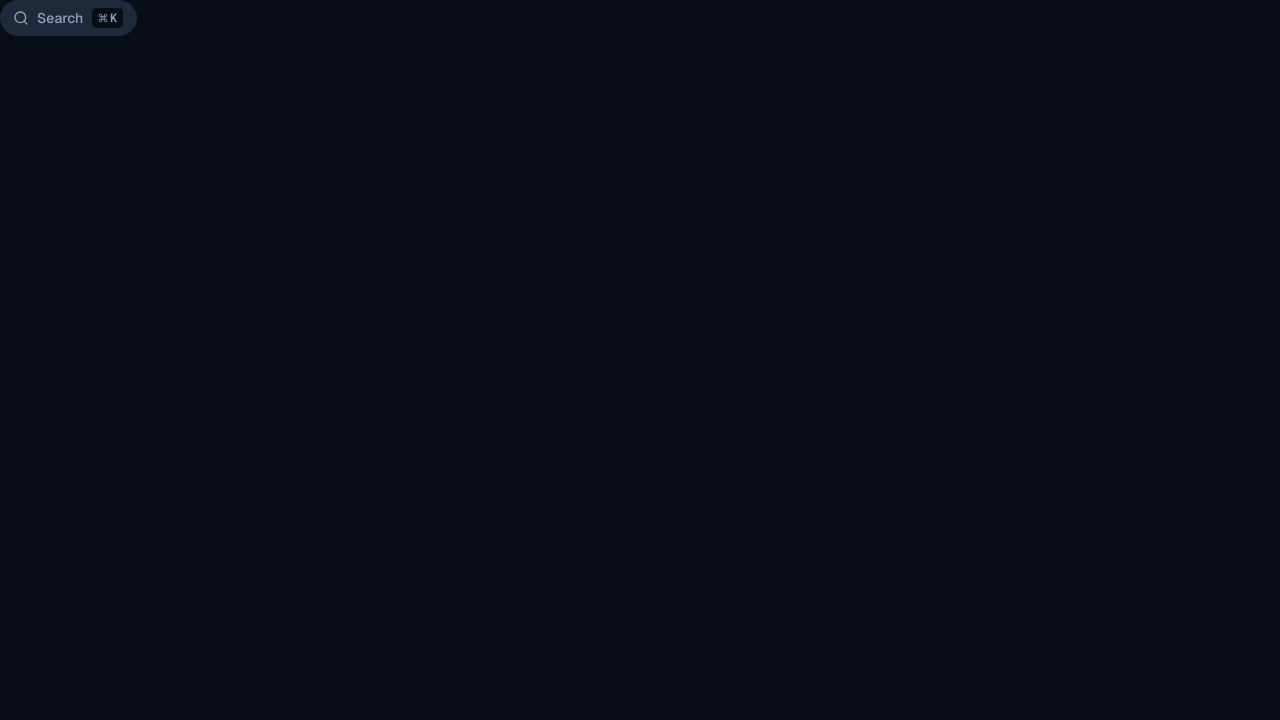
it: GlobalSearch › finds chickens by bird code and wing band
The width and height of the screenshot is (1280, 720).
Press k
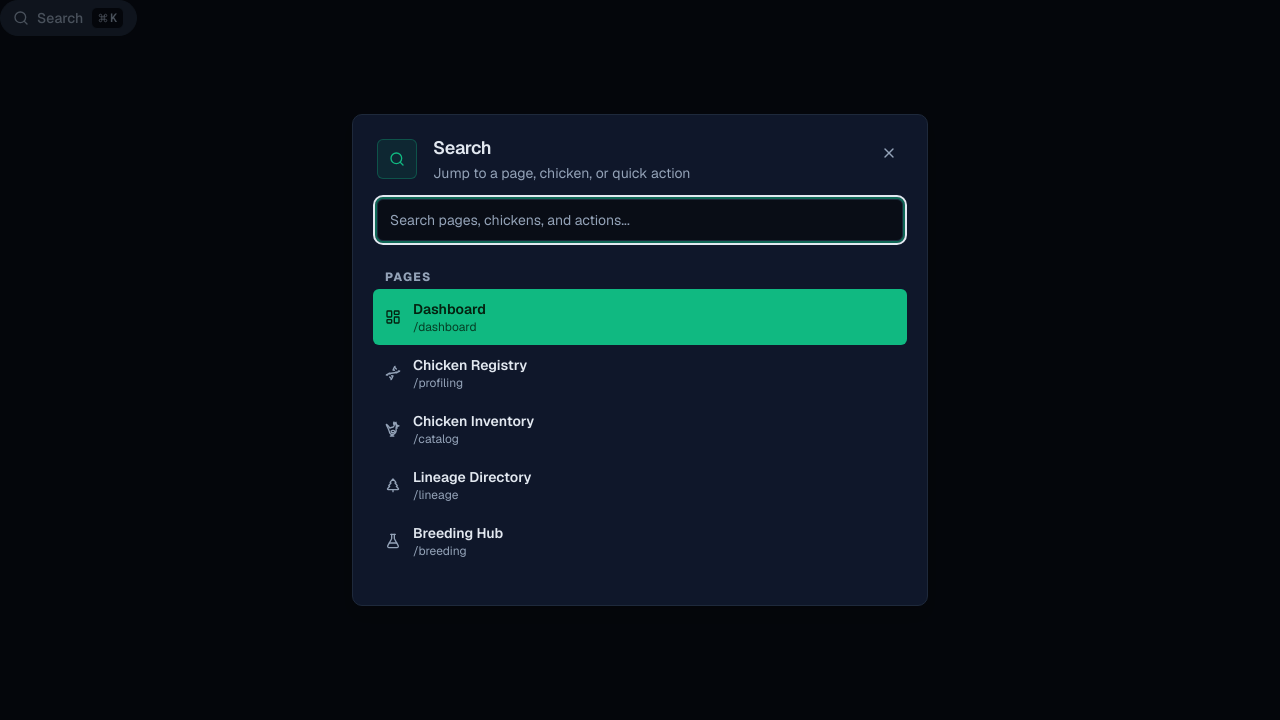
In the dropdown labelled "Search": (640, 220) 377,199 -> 903,241, type "1a1"
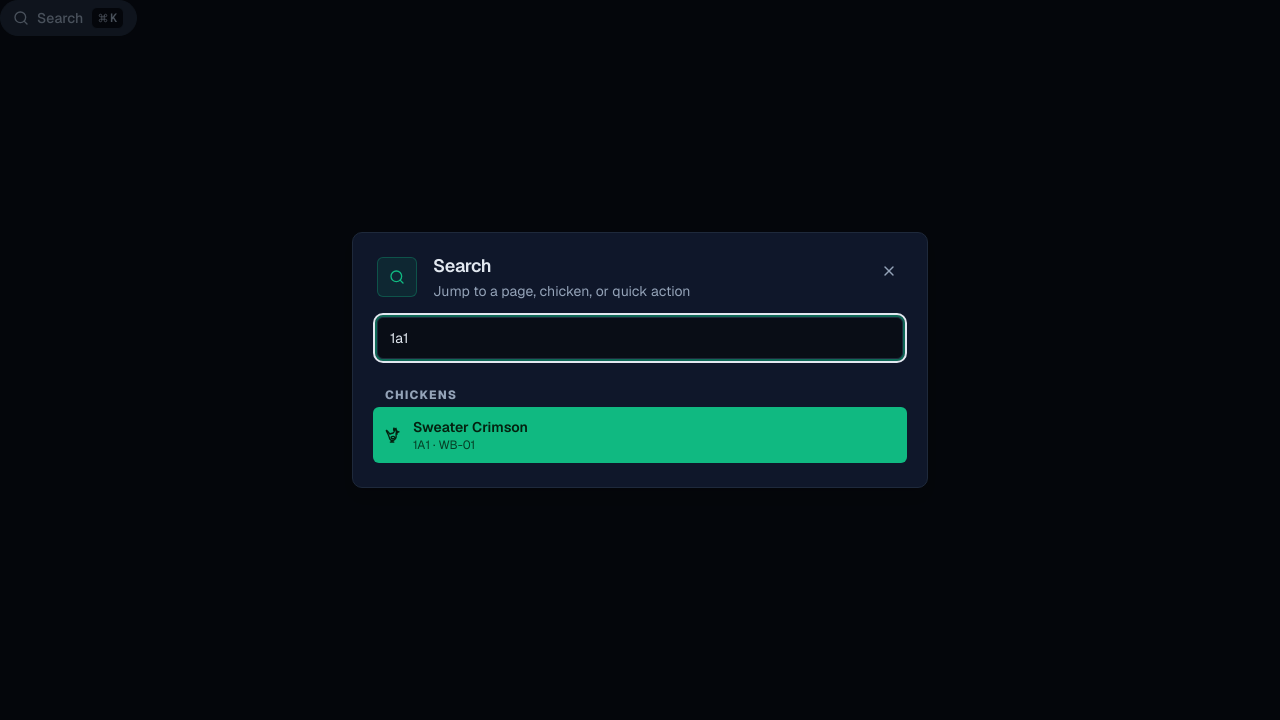
Expected: the option "Sweater Crimson 1A1 · WB-01" is shown, 373,407 -> 907,463
Replace the text in the dropdown named "Search" with "wb-99": (640, 338) 377,317 -> 903,359
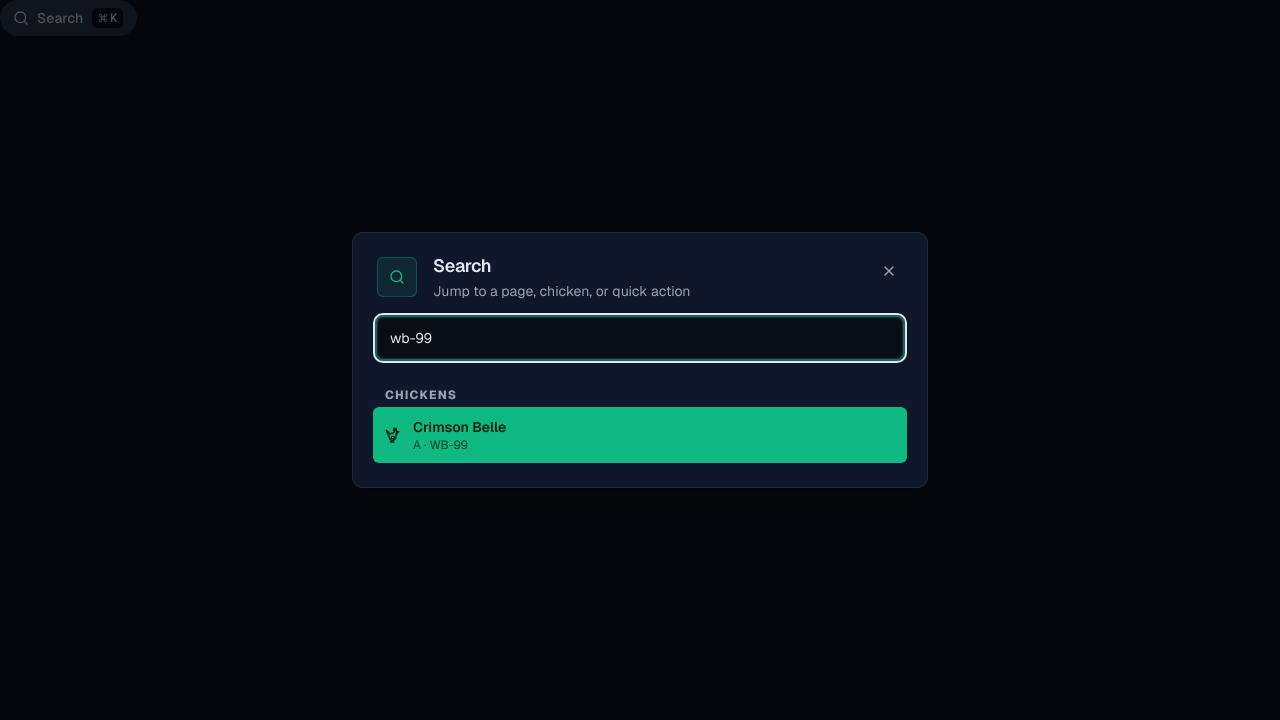
Expected: the option "Crimson Belle A · WB-99" is shown, 373,407 -> 907,463
